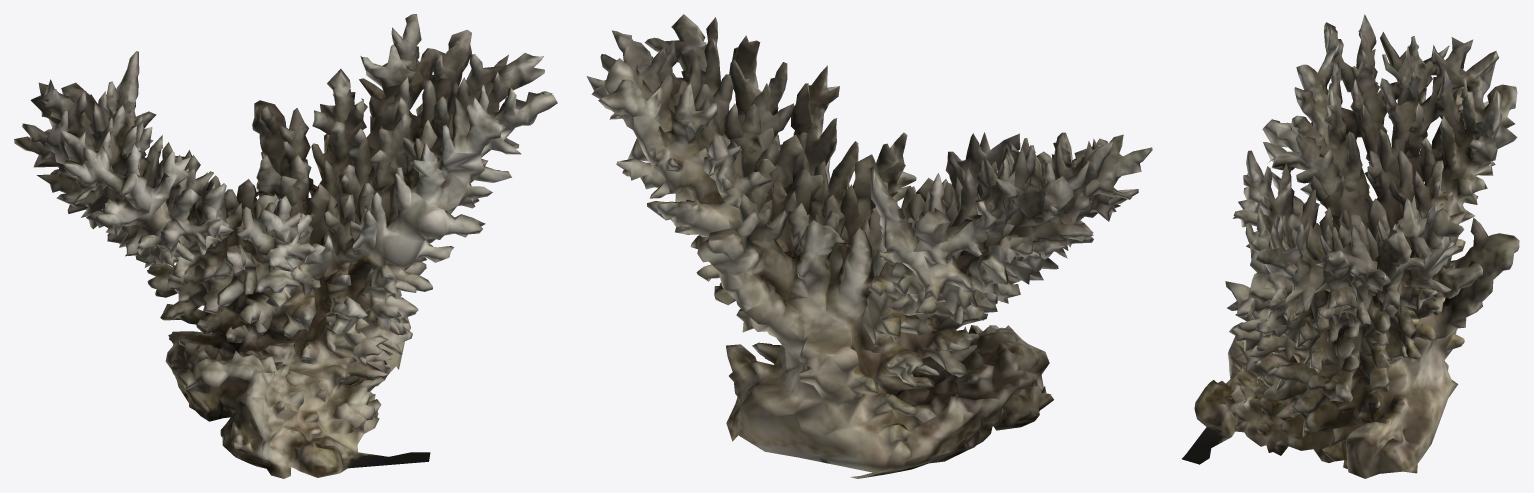
File: acropora.glb
3 renders of one model, left to right at view 1: azimuth 30°, elevation 25°; view 2: azimuth 150°, elevation 25°; view 3: azimuth 270°, elevation 25°, orthographic. The views are drawn at different scales.
Visible parts, largest first — view 1: Object_4; view 2: Object_4; view 3: Object_4.
Boxes of the visible parts, x1=… form: Object_4: x1=14, y1=14, x2=557, y2=478; Object_4: x1=586, y1=14, x2=1152, y2=478; Object_4: x1=1182, y1=14, x2=1519, y2=478.
Size of the model in its own units: 1 by 0.654 by 0.632.
Materials: 1 (1 with a texture image).
